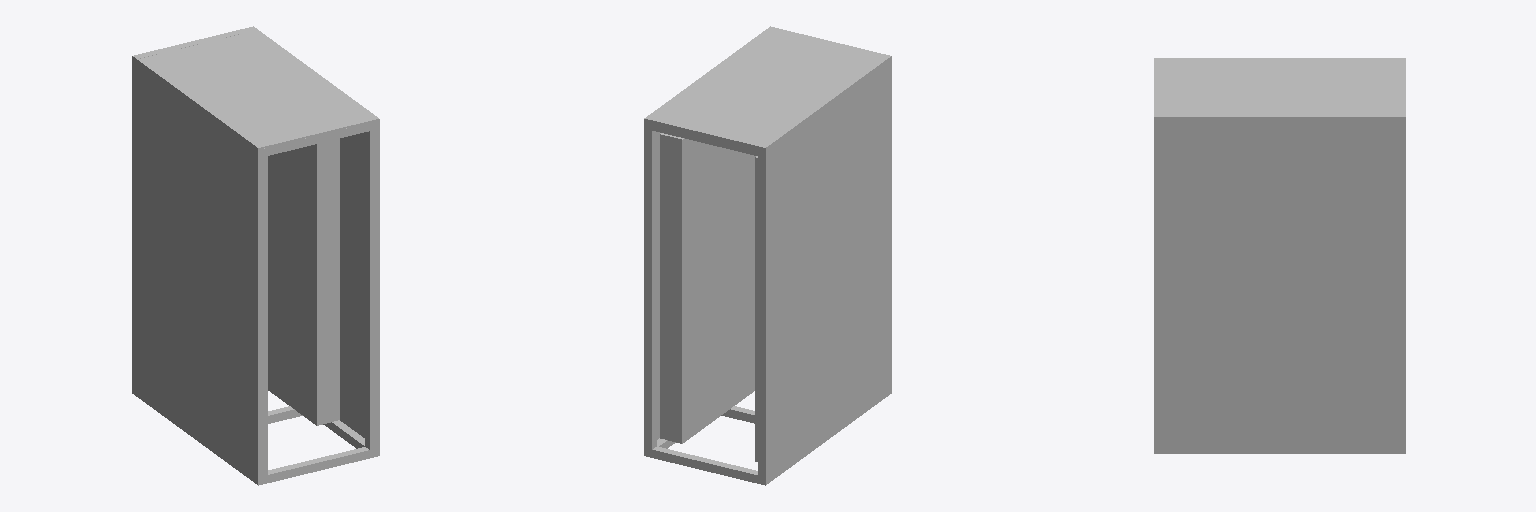
File: cosma7_rack.obj
The picture shows the model from 3 angles: view 1: azimuth 30°, elevation 25°; view 2: azimuth 150°, elevation 25°; view 3: azimuth 270°, elevation 25°; orthographic projection.
Parts seen in each view (by area): view 1: Cube.010_Cube.013; view 2: Cube.010_Cube.013; view 3: Cube.010_Cube.013.
Part boxes in pixels (x1,y1,x2,y2): Cube.010_Cube.013: (132,26,379,485); Cube.010_Cube.013: (644,26,891,485); Cube.010_Cube.013: (1154,58,1405,453).
Bounding box in the file's own units: 1 × 2.66 × 1.8.